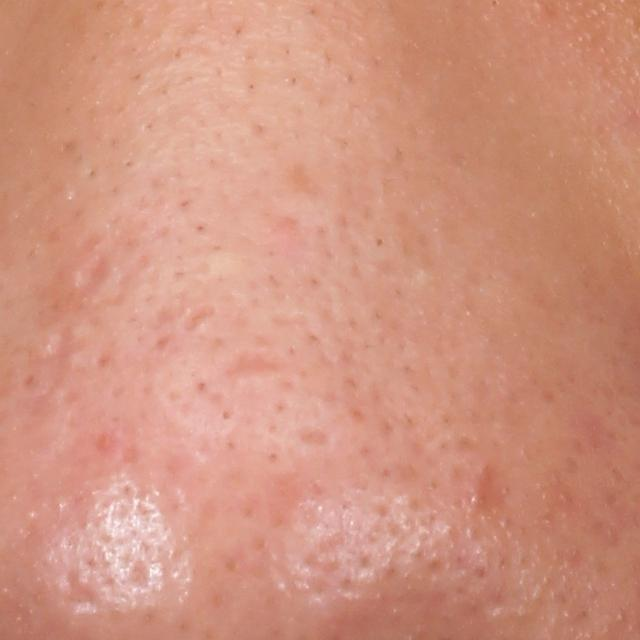atrophic_scar: (21, 320, 92, 406), (211, 344, 283, 385), (72, 249, 111, 309), (284, 155, 323, 210), (182, 301, 218, 337), (297, 427, 337, 452)
